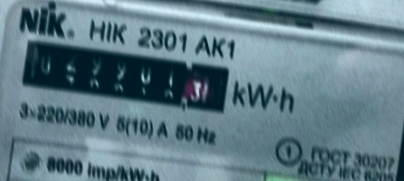0: (137, 60, 155, 87), (37, 52, 55, 76)
1: (164, 64, 179, 90)
2: (63, 51, 81, 75)
3: (187, 80, 205, 104)
9: (113, 59, 128, 83), (89, 55, 104, 77)
screen: (13, 32, 240, 125)
